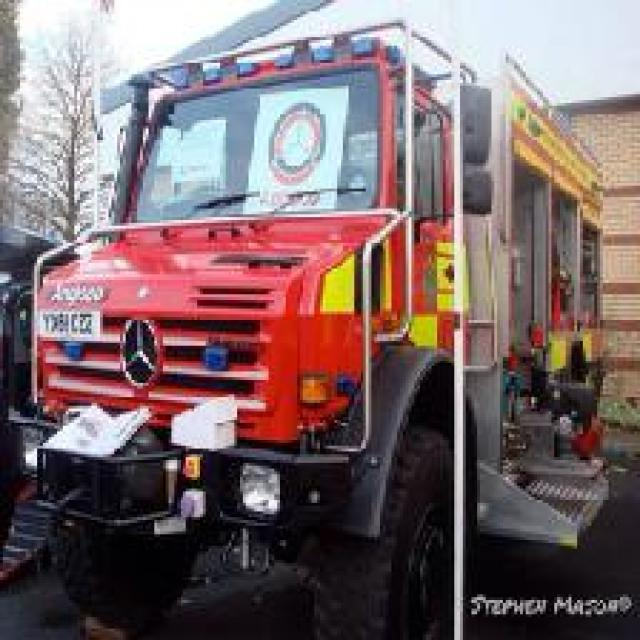emergency: (6, 15, 614, 638)
